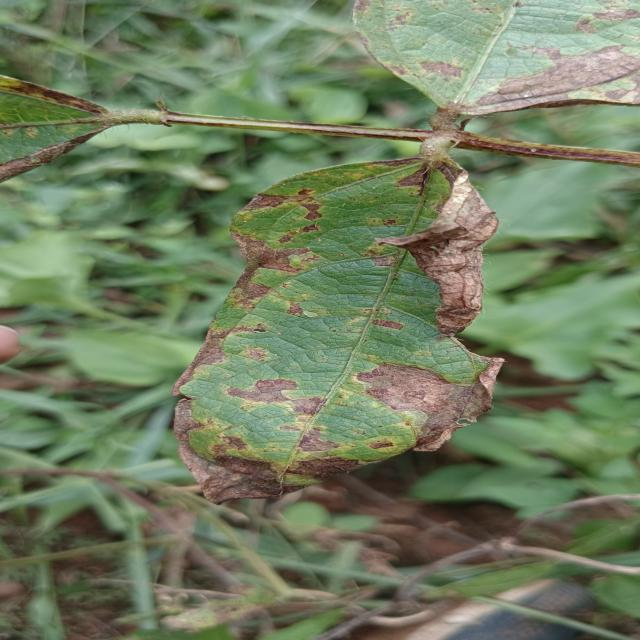Black gram_leaf spot: (161, 150, 512, 508), (325, 0, 640, 114)
